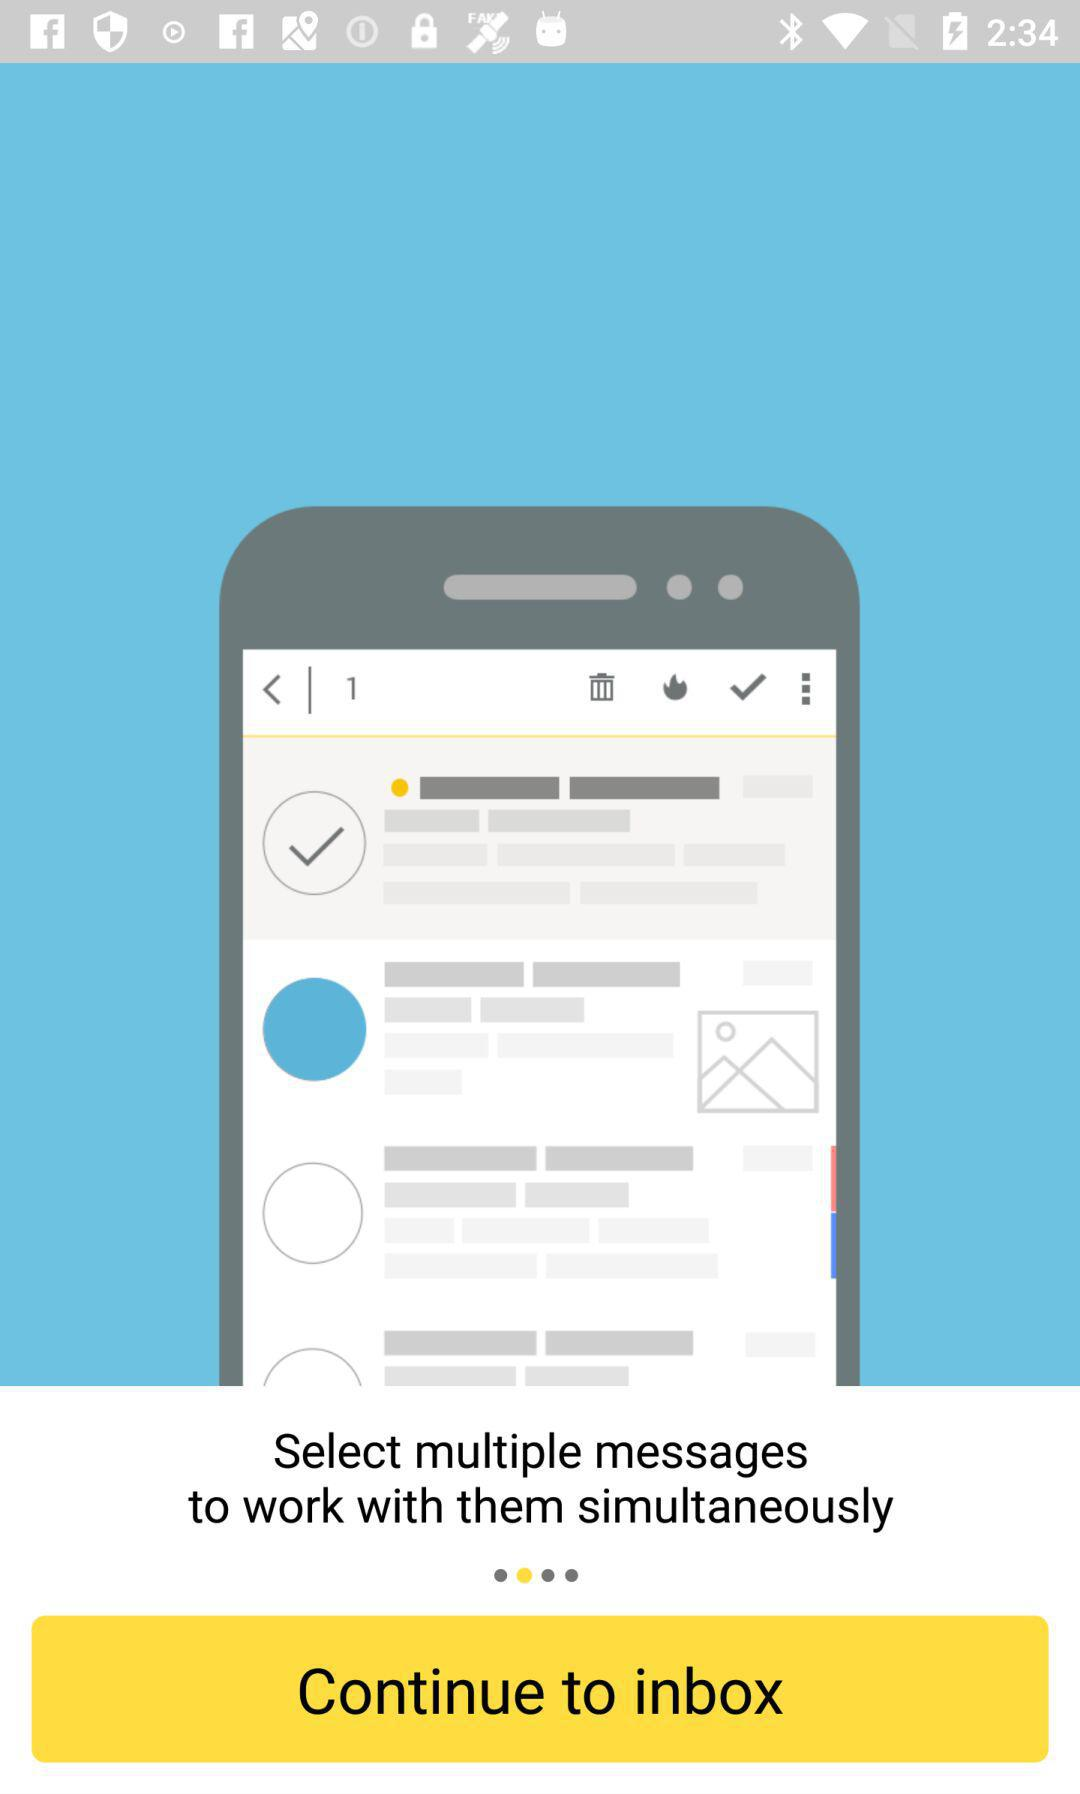Image: (219, 505, 862, 1387)
PageIndicator: (493, 1567, 580, 1585)
Text: (190, 1430, 896, 1535)
TextButton: (32, 1615, 1049, 1763)
UpperTaskBar: (1, 1, 1080, 64)
